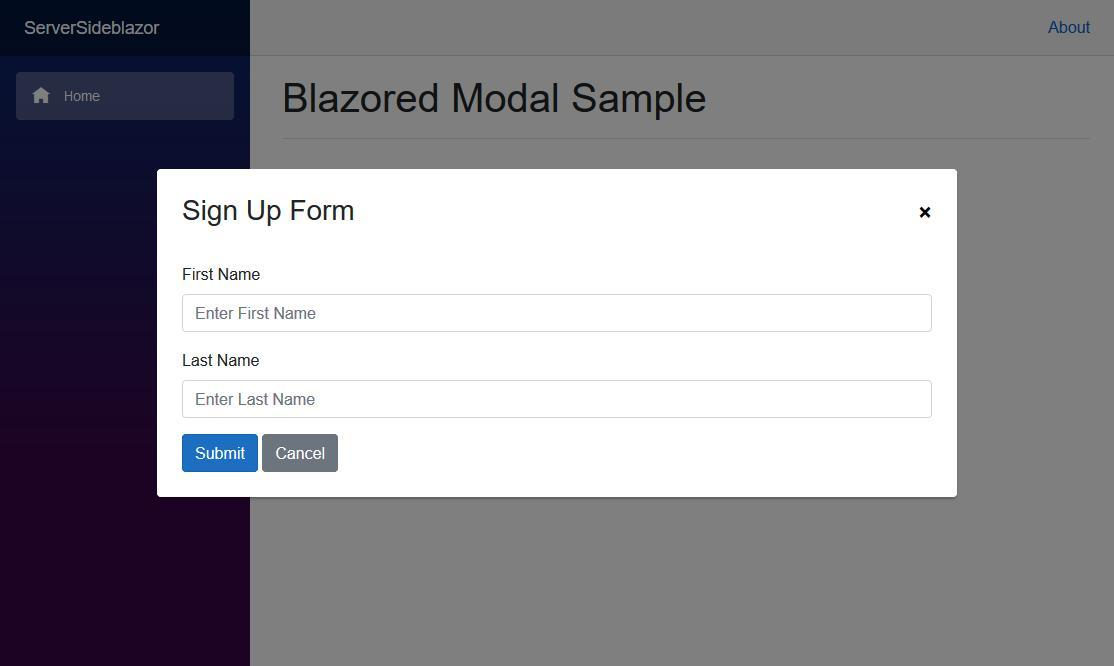button: (263, 432, 341, 477), (181, 432, 261, 475)
input: (183, 297, 935, 336), (185, 380, 932, 419)
label: (179, 264, 262, 284), (182, 352, 262, 372)
